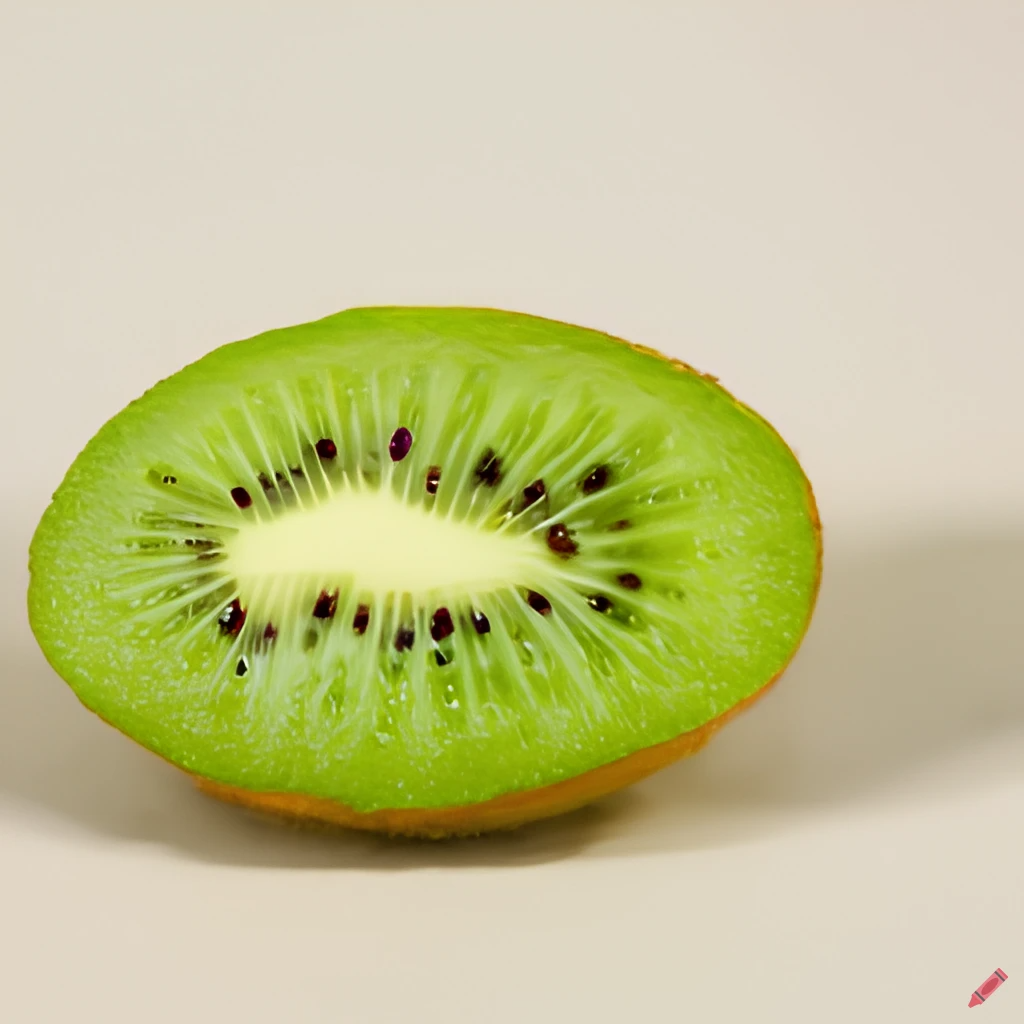Kiwi: (19, 264, 826, 860)
